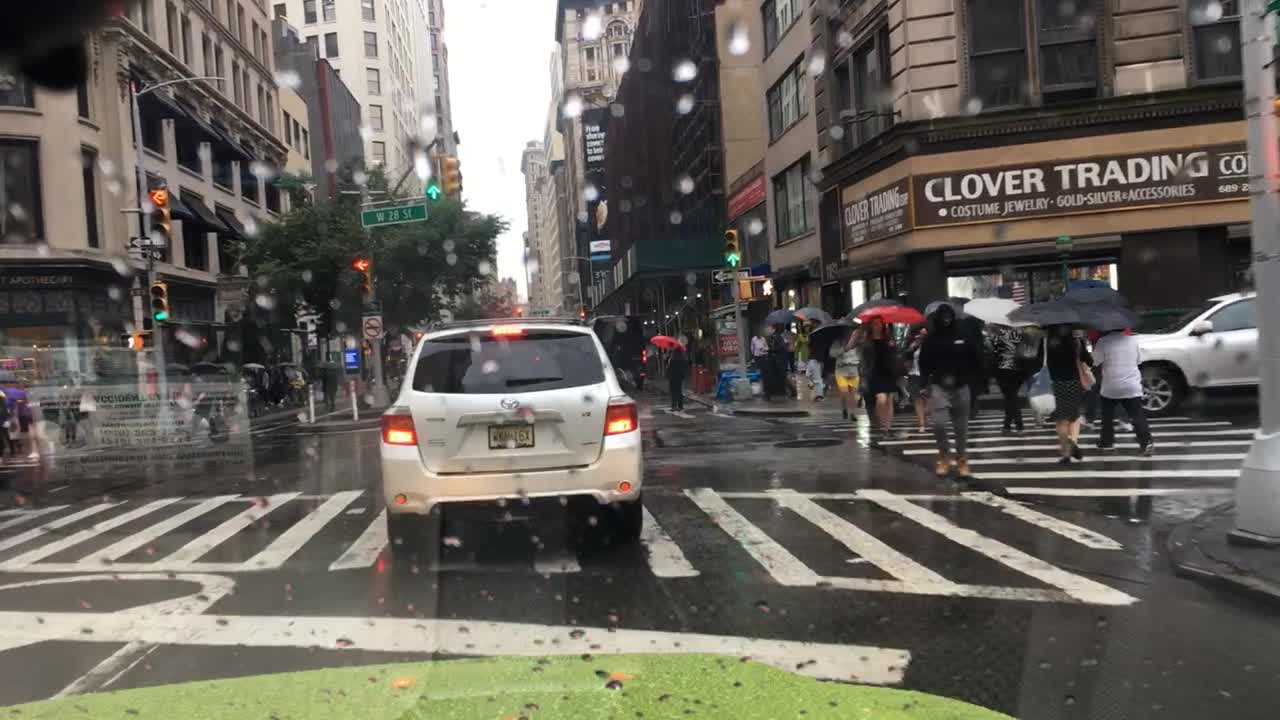car: (375, 312, 645, 554), (1131, 289, 1264, 416), (587, 313, 650, 386)
person: (915, 304, 983, 477), (1024, 315, 1101, 464), (1088, 320, 1154, 455), (852, 305, 906, 421), (858, 314, 901, 457), (989, 316, 1030, 432), (827, 327, 865, 423), (906, 319, 937, 432), (959, 311, 989, 417), (764, 331, 798, 399), (805, 317, 832, 400), (661, 342, 686, 408), (791, 319, 816, 371), (1088, 318, 1133, 345), (318, 360, 340, 412), (15, 393, 34, 450), (0, 387, 13, 458), (747, 328, 770, 364), (289, 366, 309, 406), (239, 371, 257, 414), (243, 366, 259, 414), (4, 408, 18, 455), (268, 363, 284, 403), (780, 318, 796, 357), (259, 366, 275, 405), (283, 363, 298, 400), (653, 339, 669, 370), (780, 318, 794, 353), (769, 318, 787, 343)
traffic light: (147, 186, 170, 236), (147, 281, 170, 323), (720, 227, 740, 265), (442, 157, 463, 193), (121, 330, 157, 350), (354, 259, 371, 290), (735, 279, 753, 301), (425, 180, 442, 200), (411, 330, 424, 341), (513, 306, 525, 317), (577, 309, 586, 318)
traffic sign: (356, 201, 427, 229), (709, 267, 754, 281), (359, 315, 384, 340), (128, 234, 170, 248)
